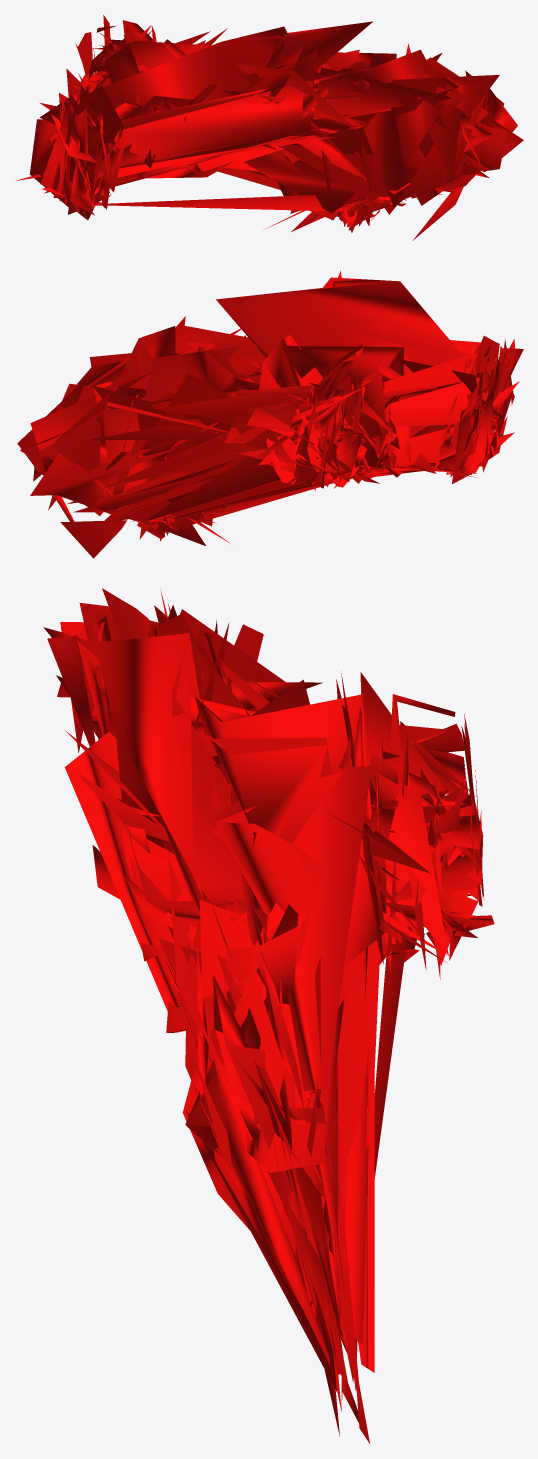
3 renders of one model, top to bottom at view 1: azimuth 30°, elevation 25°; view 2: azimuth 150°, elevation 25°; view 3: azimuth 270°, elevation 25°, orthographic. The views are drawn at different scales.
Parts seen in each view (by area): view 1: Renderer Node; view 2: Renderer Node; view 3: Renderer Node.
Boxes of the visible parts, bbox=[...] form: Renderer Node: bbox=[16, 15, 523, 240]; Renderer Node: bbox=[17, 270, 523, 558]; Renderer Node: bbox=[43, 588, 494, 1443].
Size of the model in its own units: 0.757 by 0.4487 by 0.3221.
Materials: 1 (1 with a texture image).
